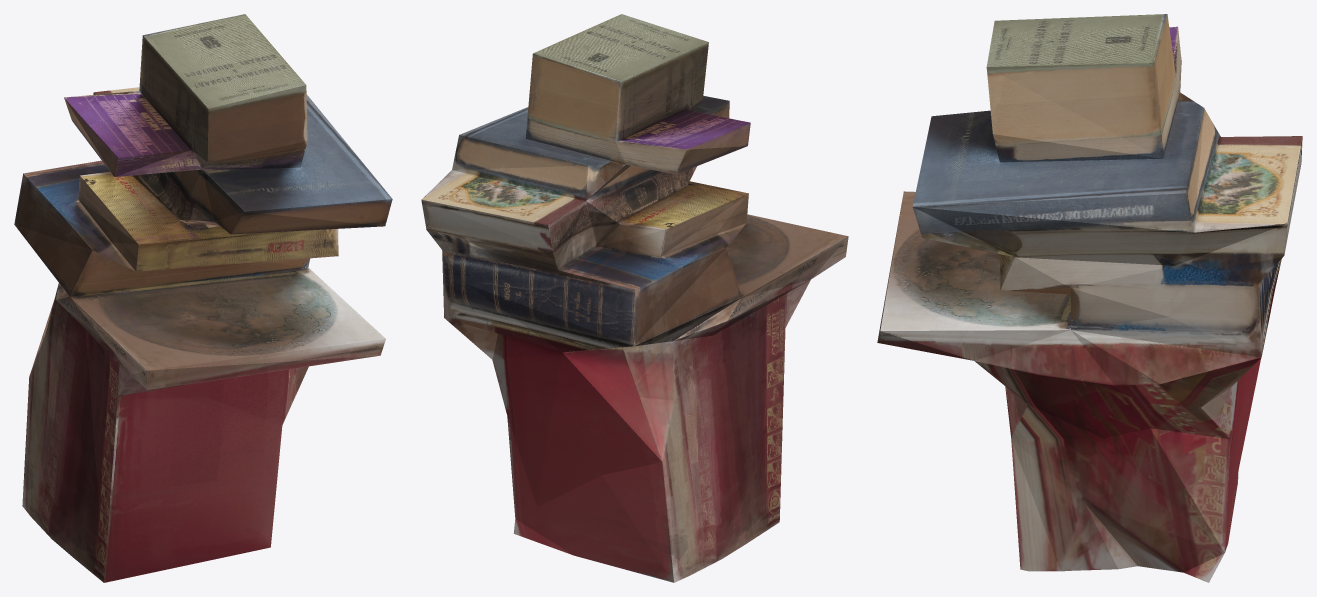
The model's file is Non_Cause_1.glb.
3 views of the same model, side by side, from view 1: azimuth 30°, elevation 25°; view 2: azimuth 150°, elevation 25°; view 3: azimuth 270°, elevation 25° (orthographic). The views are drawn at different scales.
Parts seen in each view (by area): view 1: Scan 80_5; view 2: Scan 80_5; view 3: Scan 80_5.
Boxes of the visible parts, x1,y1,x2,y2 form: Scan 80_5: (14,14,392,582); Scan 80_5: (421,14,848,582); Scan 80_5: (877,14,1302,582).
Bounding box in the file's own units: 50.7 × 83.85 × 61.37.
Materials: 1 (1 with a texture image).
